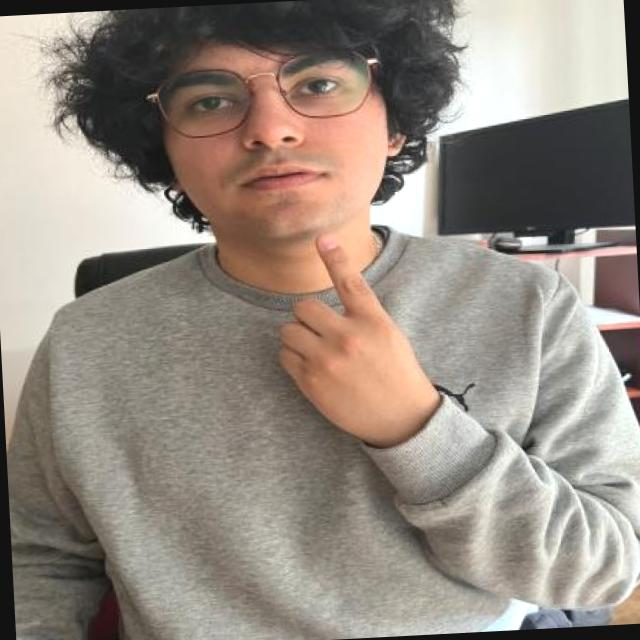T: (263, 220, 450, 444)
